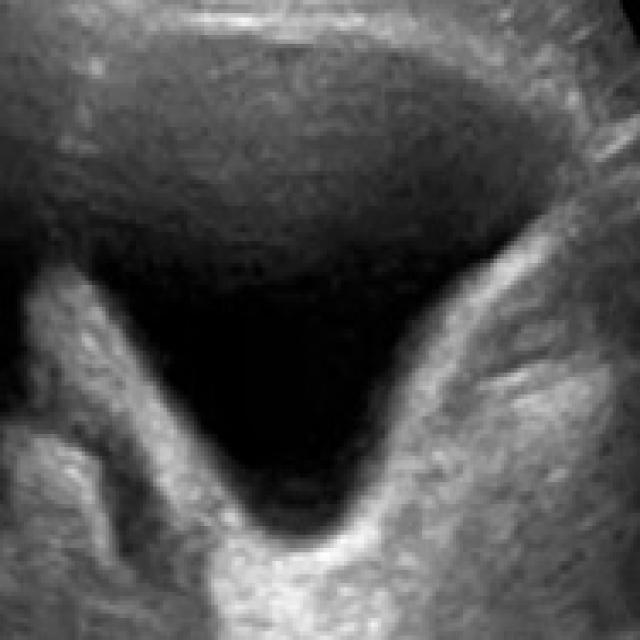bladder: (45, 0, 620, 615)
